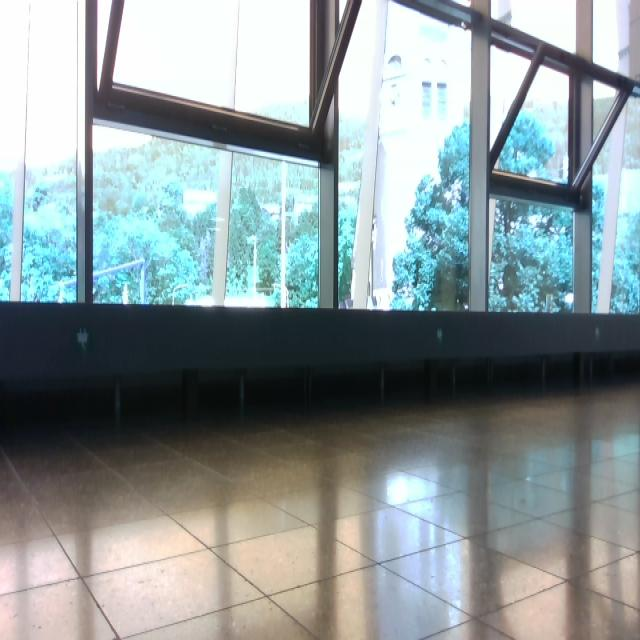light bulb: (183, 188, 217, 218), (387, 475, 410, 507), (564, 293, 574, 304)
tiled floor: (2, 383, 639, 639)
window: (1, 1, 640, 317)
